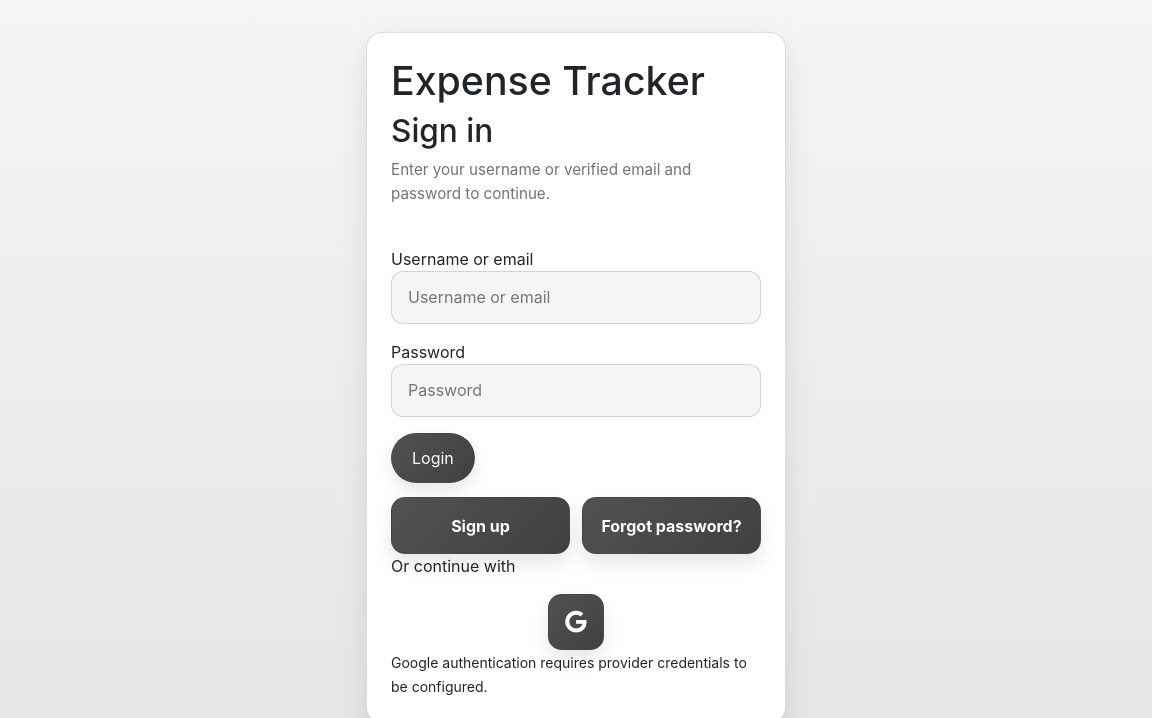
Login unit tests › reports a provider as unconfigured when the backend confirms it is missing
Click the button named "Continue with Google".
click(576, 622)  # box [548,594,604,650]
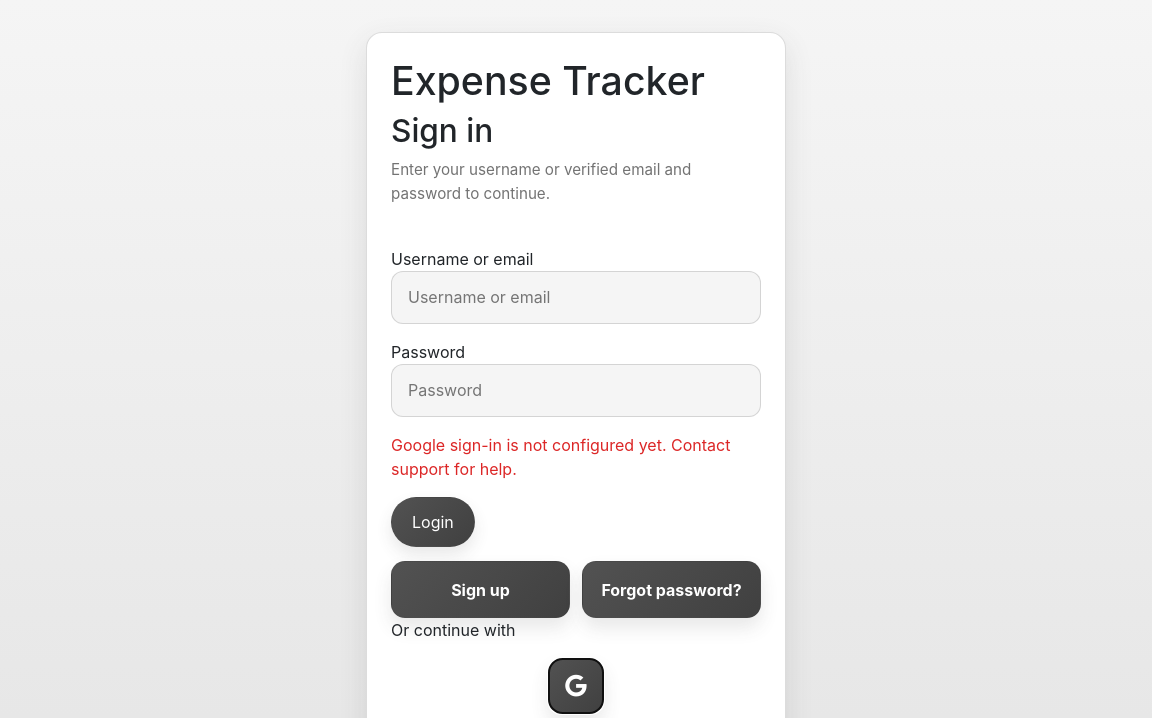
Result: the text "Google sign-in is not configured yet" is shown at [391,435,730,479]
